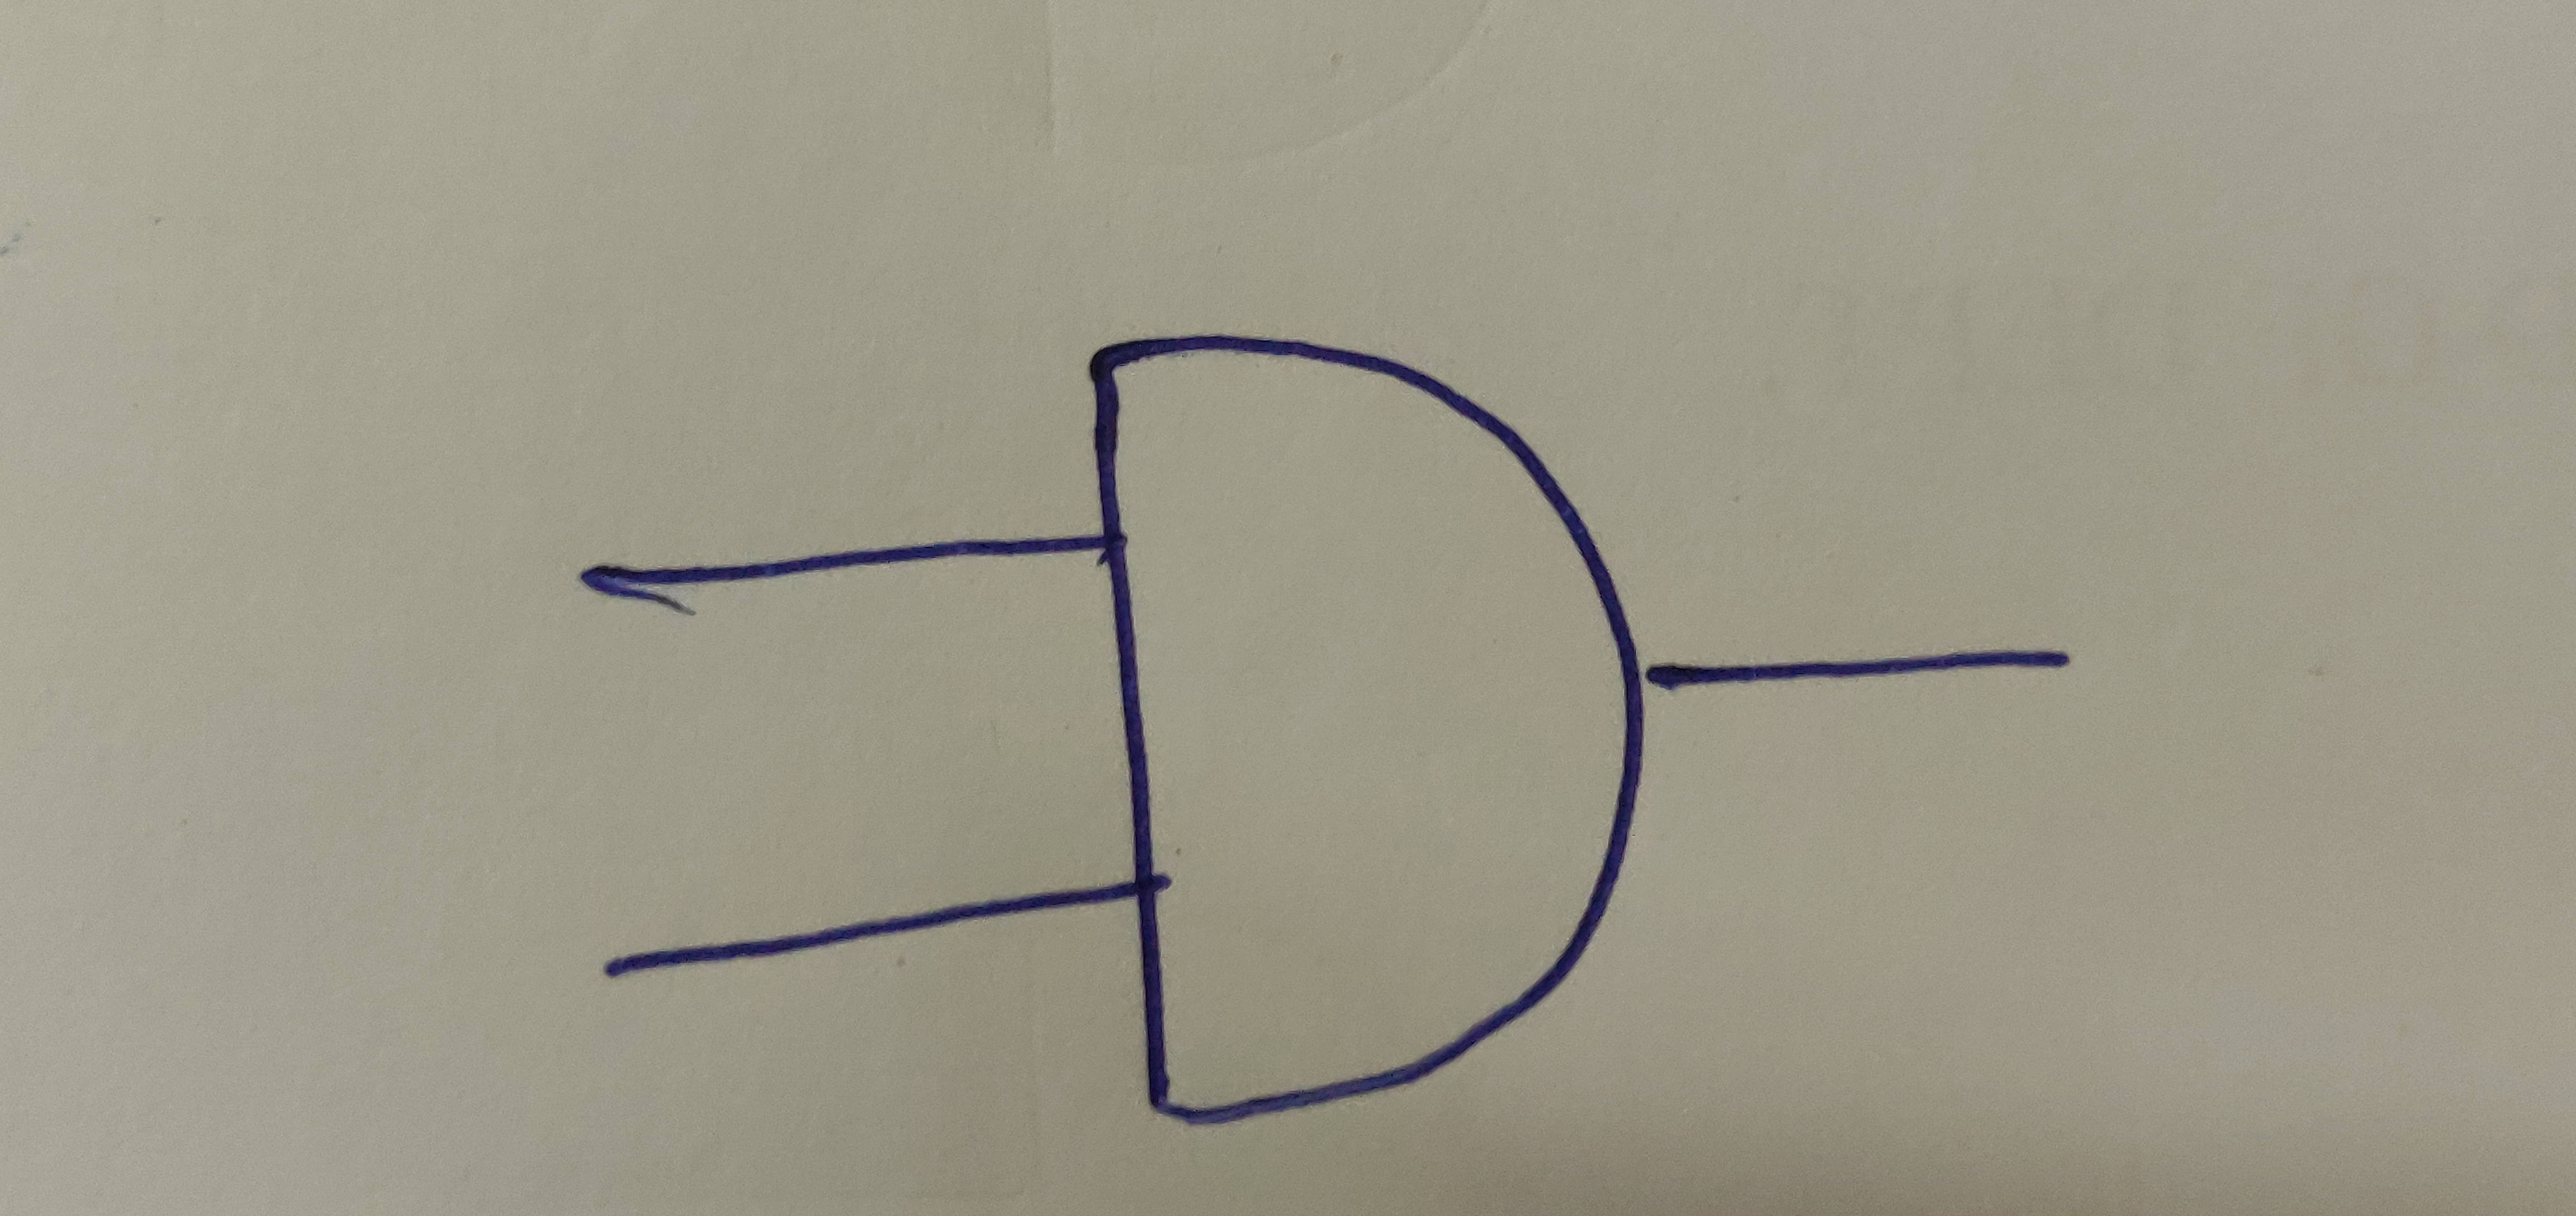and: (1081, 337, 1653, 1126)
